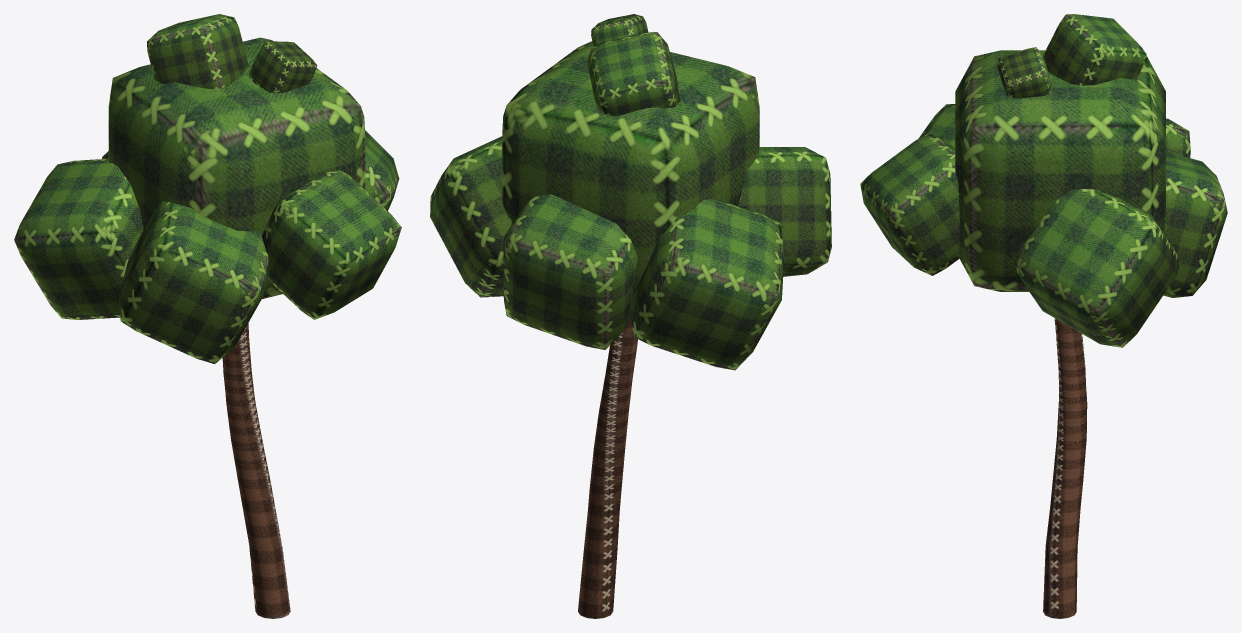
File: lpb_cs_tree25.fbx
The picture shows the model from 3 angles, left to right: view 1: azimuth 30°, elevation 25°; view 2: azimuth 150°, elevation 25°; view 3: azimuth 270°, elevation 25°; orthographic projection. The views are drawn at different scales.
Visible parts, largest first — view 1: lpb_cs_tree25; view 2: lpb_cs_tree25; view 3: lpb_cs_tree25.
Part boxes in pixels (x1,y1,x2,y2): lpb_cs_tree25: [14, 14, 401, 618]; lpb_cs_tree25: [430, 14, 831, 618]; lpb_cs_tree25: [860, 14, 1227, 618].
Bounding box in the file's own units: 140 × 219 × 129.
